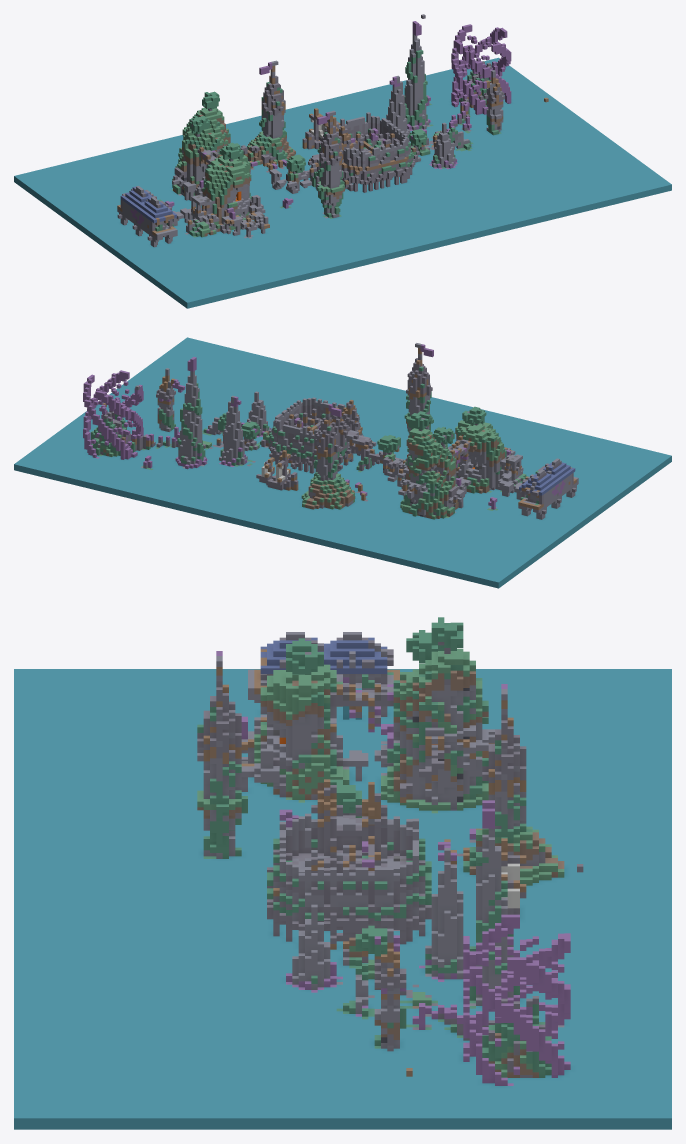
The model's file is archipel.glb.
The picture shows the model from 3 angles, top to bottom: view 1: azimuth 30°, elevation 25°; view 2: azimuth 150°, elevation 25°; view 3: azimuth 270°, elevation 25°; orthographic projection. The views are drawn at different scales.
Visible parts, largest first — view 1: geometry_0; view 2: geometry_0; view 3: geometry_0.
Part boxes in pixels (box(x1,y1,x2,y2)): geometry_0: box(14, 14, 671, 308); geometry_0: box(14, 337, 671, 588); geometry_0: box(14, 617, 671, 1129).
Bounding box in the file's own units: 168 × 36 × 104.
